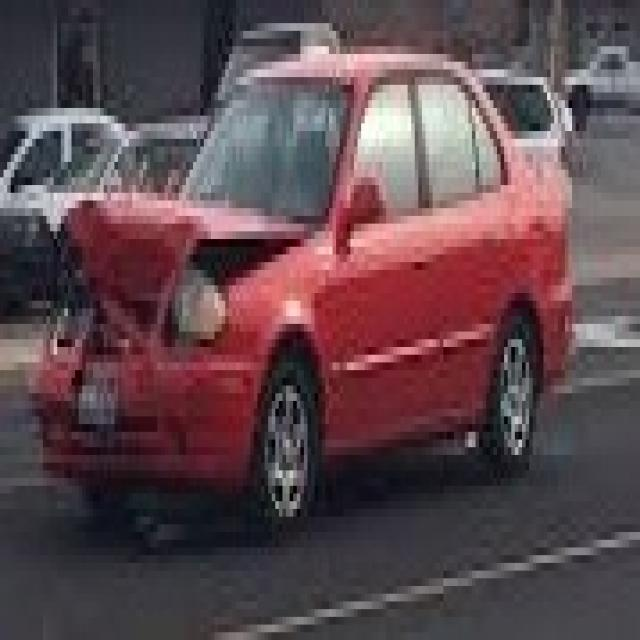moderate: (55, 198, 355, 394)
